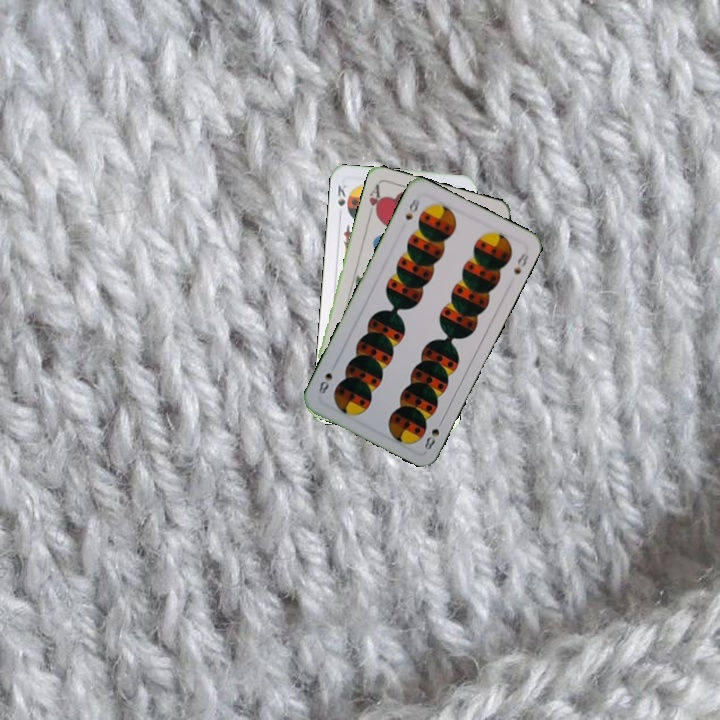HA: (364, 180, 385, 220)
S8: (420, 415, 446, 452), (401, 194, 422, 223)
SK: (333, 181, 351, 214)
